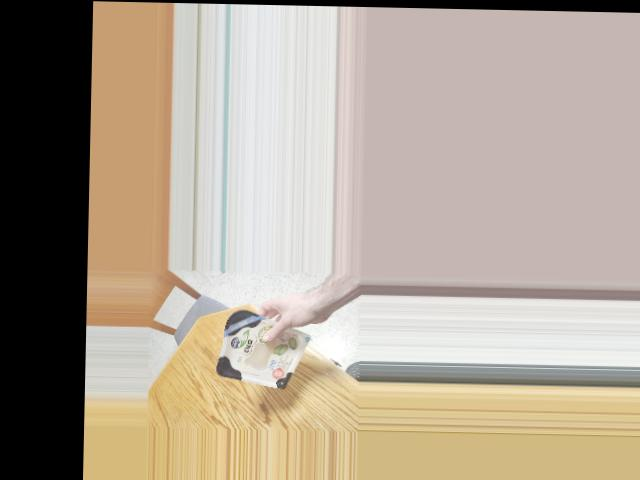cheese: (218, 311, 296, 387)
